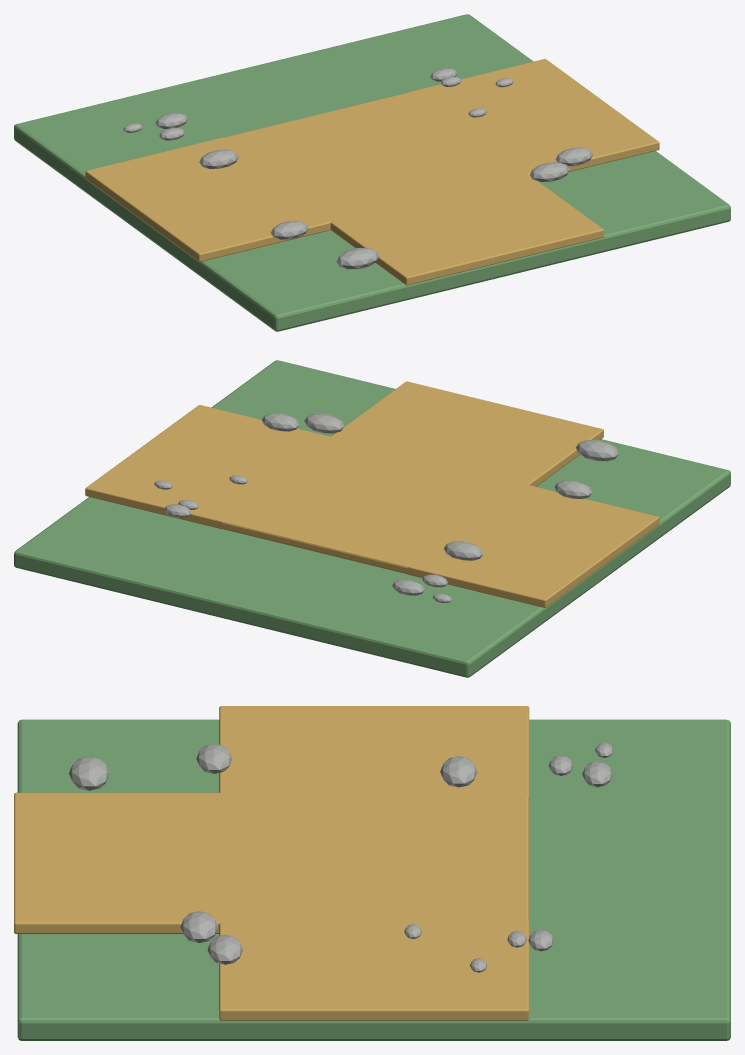
Rendered from ROAD_DIRT_1x1_T.glb.
3 renders of one model, top to bottom at view 1: azimuth 30°, elevation 25°; view 2: azimuth 150°, elevation 25°; view 3: azimuth 270°, elevation 25°, orthographic. The views are drawn at different scales.
Visible parts, largest first — view 1: ROAD_DIRT_1x1_T_Visual; view 2: ROAD_DIRT_1x1_T_Visual; view 3: ROAD_DIRT_1x1_T_Visual.
Part boxes in pixels (bbox=[...]): ROAD_DIRT_1x1_T_Visual: bbox=[14, 14, 730, 331]; ROAD_DIRT_1x1_T_Visual: bbox=[14, 360, 730, 677]; ROAD_DIRT_1x1_T_Visual: bbox=[14, 706, 730, 1040].
Size of what is drawn, in the model's own units: 2 by 0.1547 by 1.99.
